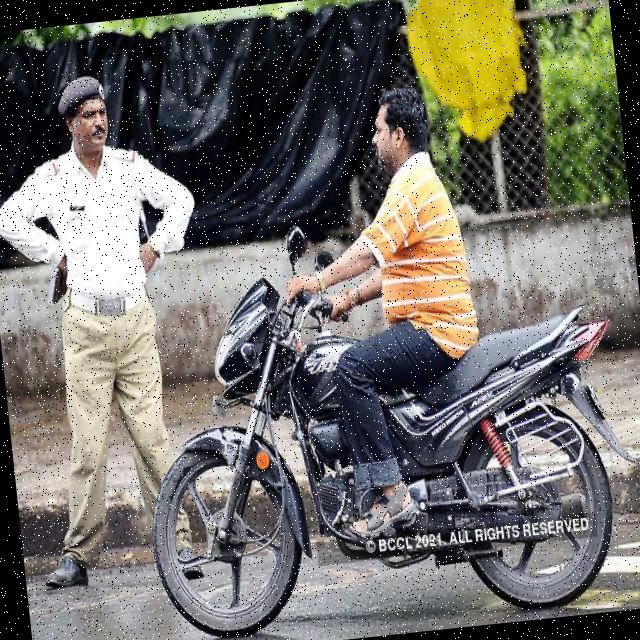No helmet: (350, 80, 452, 190)
